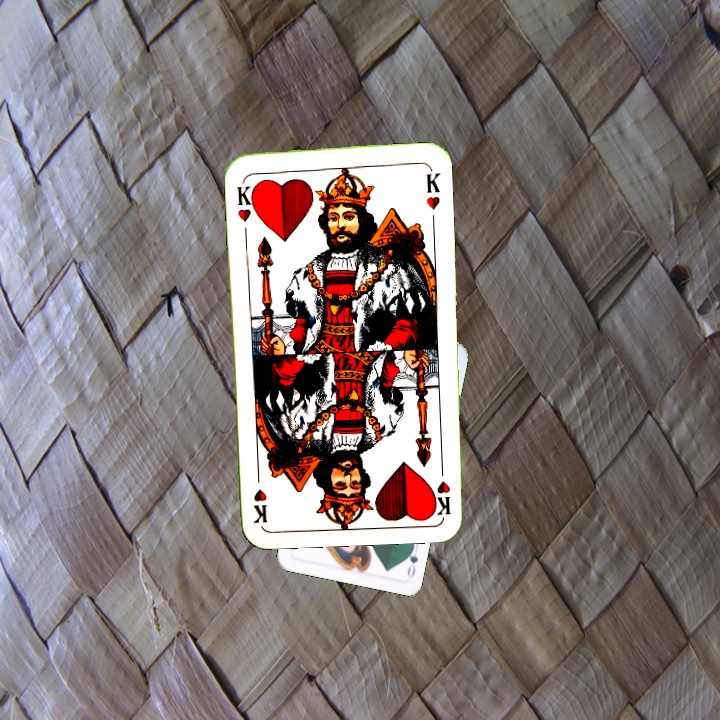GO: (402, 539, 421, 580)
HK: (429, 457, 453, 516), (233, 181, 259, 224)
